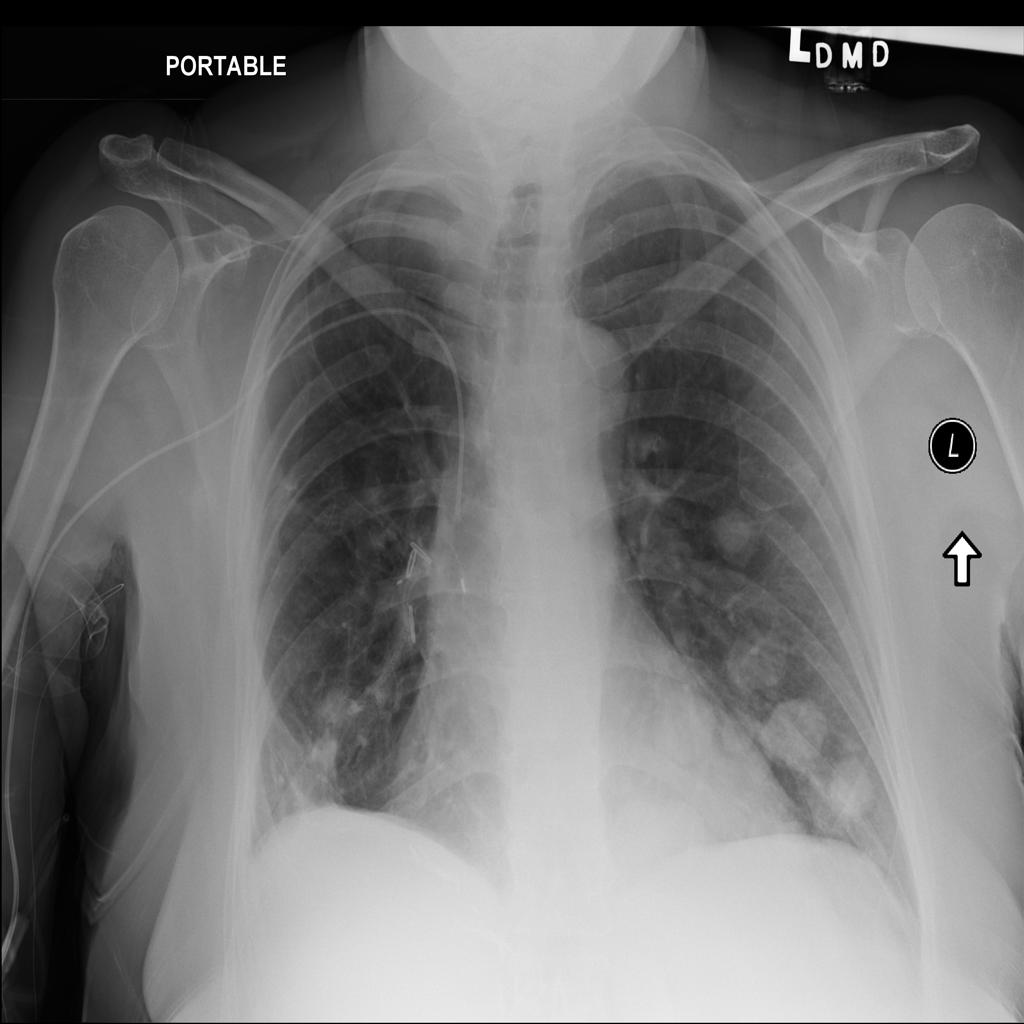nodule: (606, 783, 722, 891), (717, 621, 797, 698), (761, 692, 834, 776), (809, 756, 882, 836), (700, 489, 768, 573), (647, 687, 713, 773), (657, 619, 706, 669)
